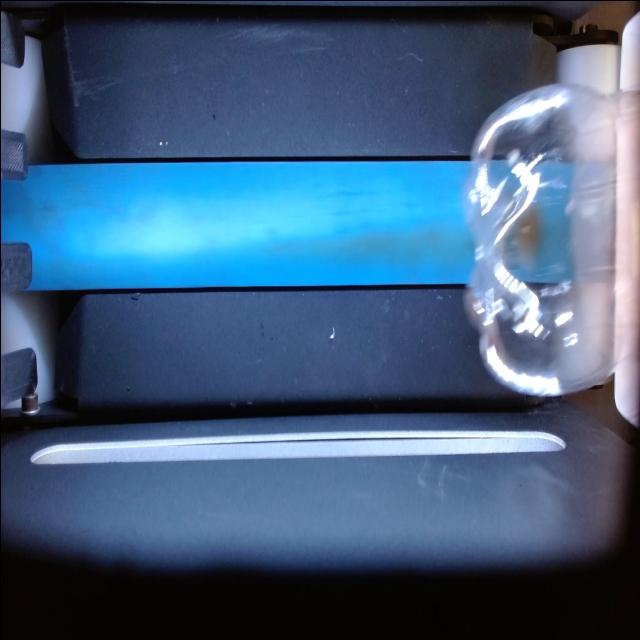bottle: (464, 84, 617, 396)
